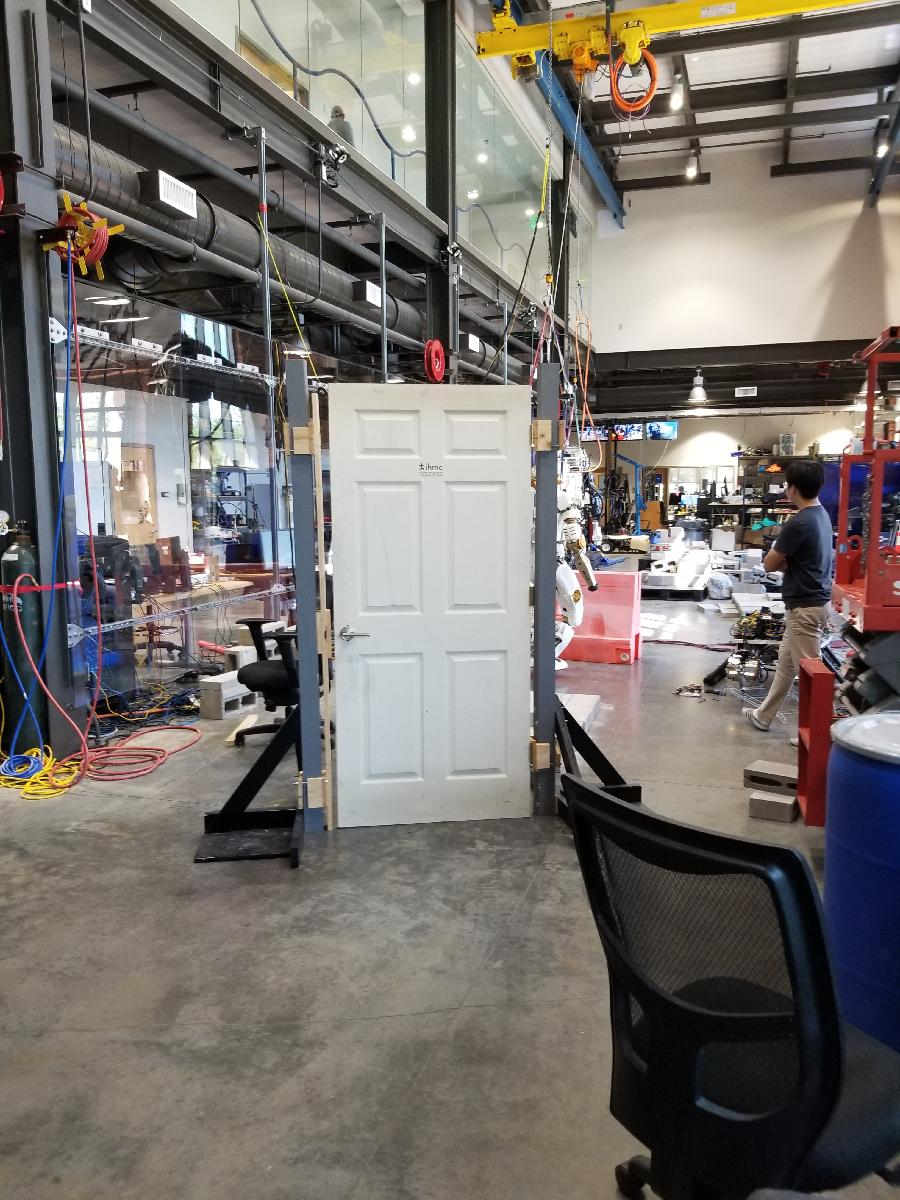door: (327, 381, 536, 838)
doorHandle: (337, 624, 372, 645)
